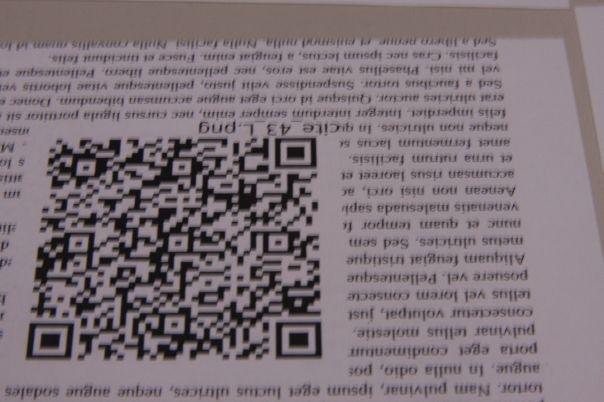Finder pattern: (271, 316, 328, 364), (21, 319, 79, 362), (268, 134, 322, 174)
